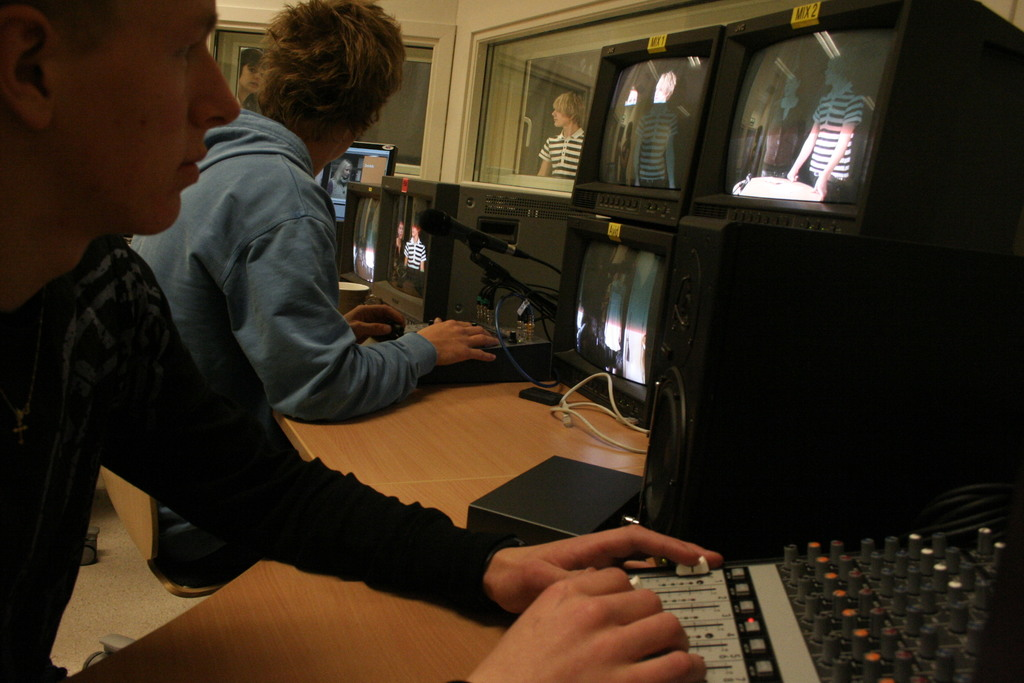Person: (0, 0, 723, 682), (128, 0, 501, 558), (783, 41, 864, 205), (632, 69, 677, 189), (763, 64, 807, 176), (535, 91, 585, 179), (239, 48, 263, 111), (402, 221, 426, 269), (325, 157, 351, 201), (395, 222, 405, 272)
